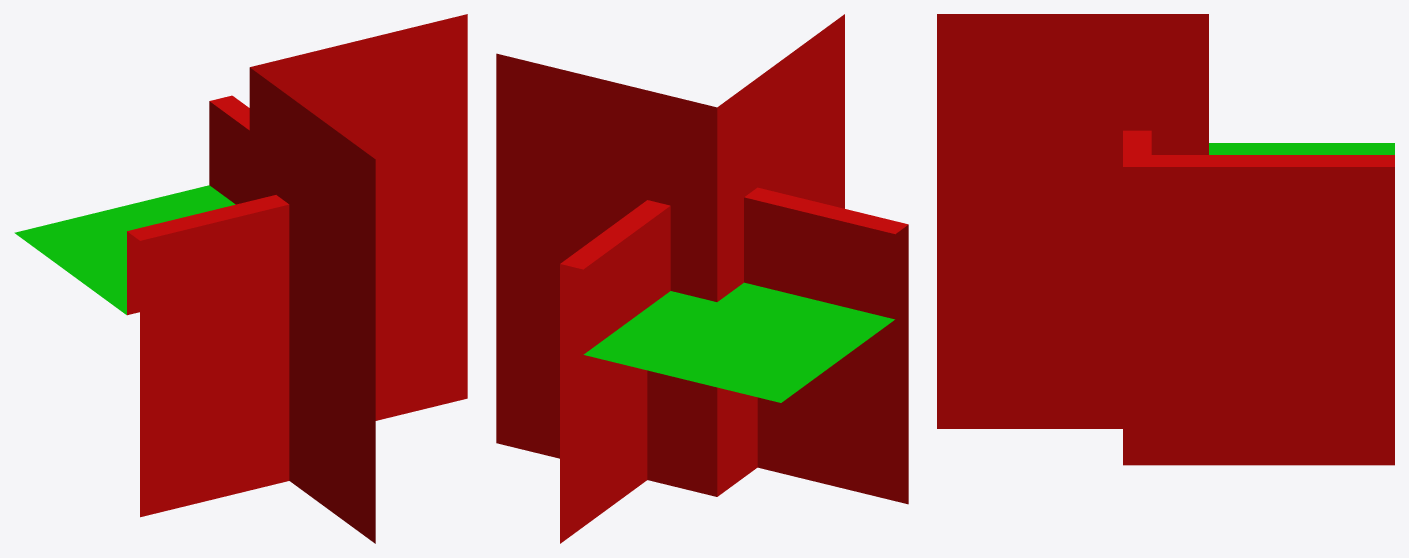
The picture shows the model from 3 angles, left to right: view 1: azimuth 30°, elevation 25°; view 2: azimuth 150°, elevation 25°; view 3: azimuth 270°, elevation 25°; orthographic projection. The views are drawn at different scales.
Parts seen in each view (by area): view 1: None_E_A_E_A_W_E_E_E_None; view 2: None_E_A_E_A_W_E_E_E_None; view 3: None_E_A_E_A_W_E_E_E_None.
Boxes of the visible parts, left/top/right/bottom form: None_E_A_E_A_W_E_E_E_None: left=14, top=14, right=467, bottom=543; None_E_A_E_A_W_E_E_E_None: left=496, top=14, right=908, bottom=543; None_E_A_E_A_W_E_E_E_None: left=937, top=14, right=1394, bottom=465.
Size of the model in its own units: 100 by 100 by 100.
